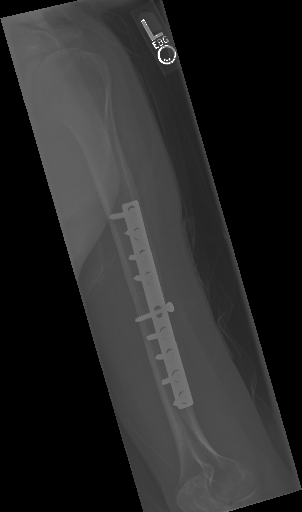implant: (104, 200, 196, 413)
